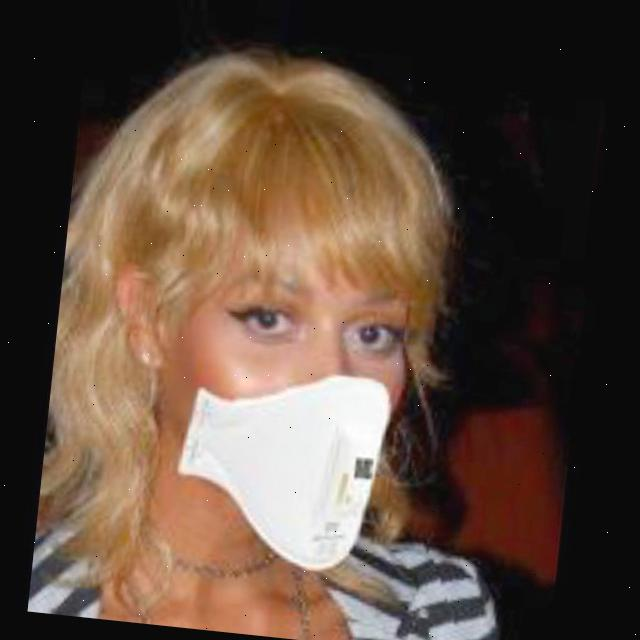suspicion: (86, 140, 437, 598)
